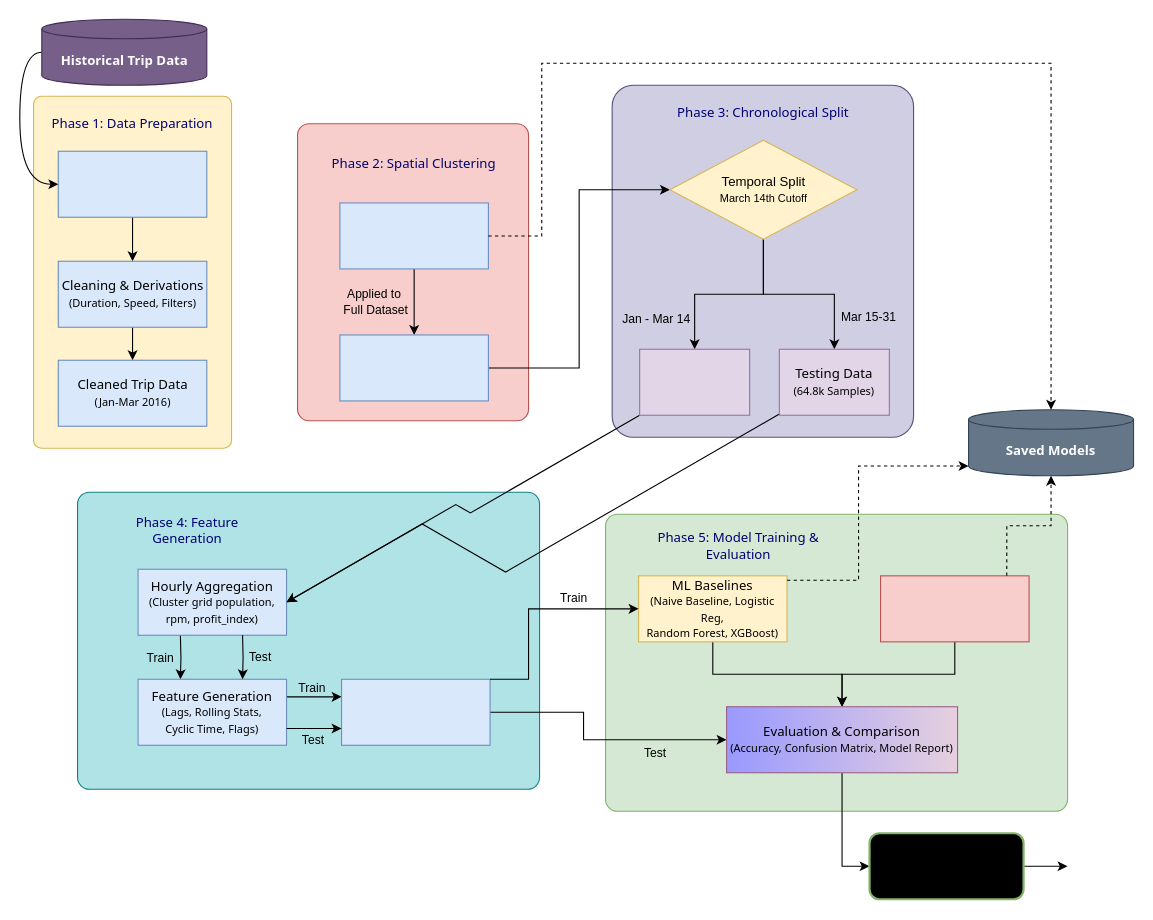
This 1153x920 diagram has some shape labels left out. Each missing label, with the box of its shape:
Deep Learning (LSTM, Transformer): (879, 575, 1029, 642)
Engineered Time-series Data: (340, 678, 490, 745)
K-Means Clustering K=150 Zones: (339, 202, 488, 269)
Raw NYC Taxi CSVs (Jan 2015 + Jan-Mar 2016): (57, 150, 207, 217)
Training Data (258k Samples): (639, 348, 750, 415)
Trip Data with Cluster IDs: (339, 334, 488, 401)
